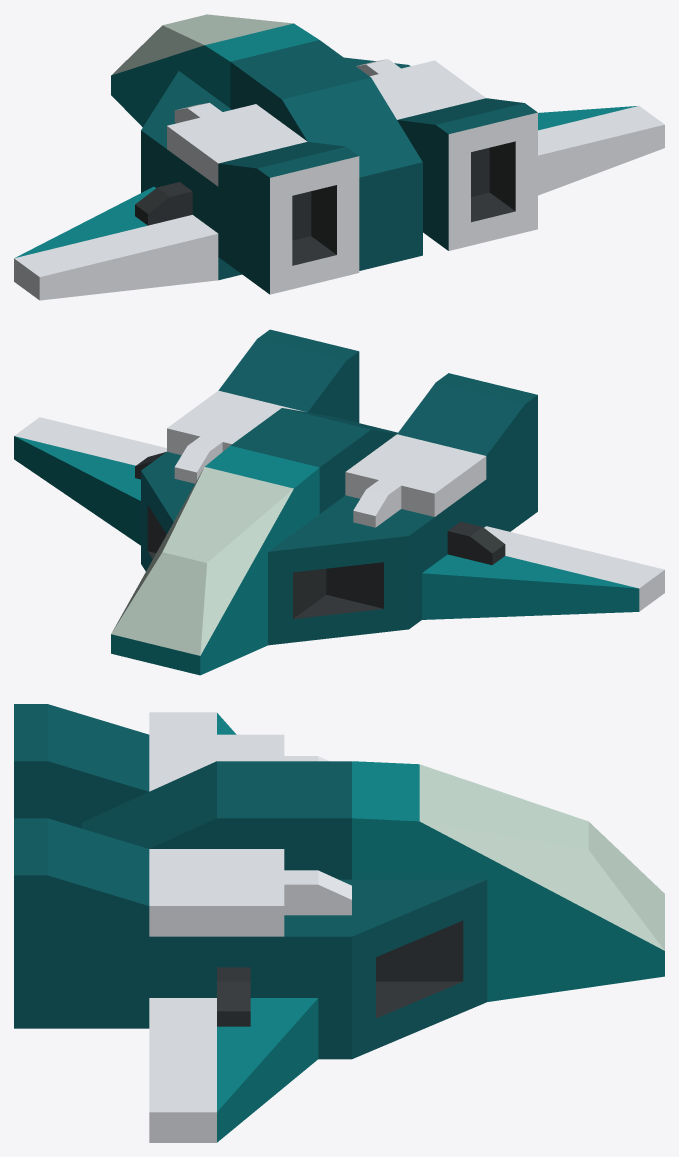
Rendered from ship.glb.
The picture shows the model from 3 angles, top to bottom: view 1: azimuth 30°, elevation 25°; view 2: azimuth 150°, elevation 25°; view 3: azimuth 270°, elevation 25°; orthographic projection. The views are drawn at different scales.
Visible parts, largest first — view 1: craft_speederC; view 2: craft_speederC; view 3: craft_speederC.
Part boxes in pixels (left/top/right/bottom): craft_speederC: left=14, top=14, right=664, bottom=300; craft_speederC: left=14, top=329, right=664, bottom=675; craft_speederC: left=14, top=704, right=664, bottom=1142.
Bounding box in the file's own units: 2.8 × 0.6 × 1.93.
